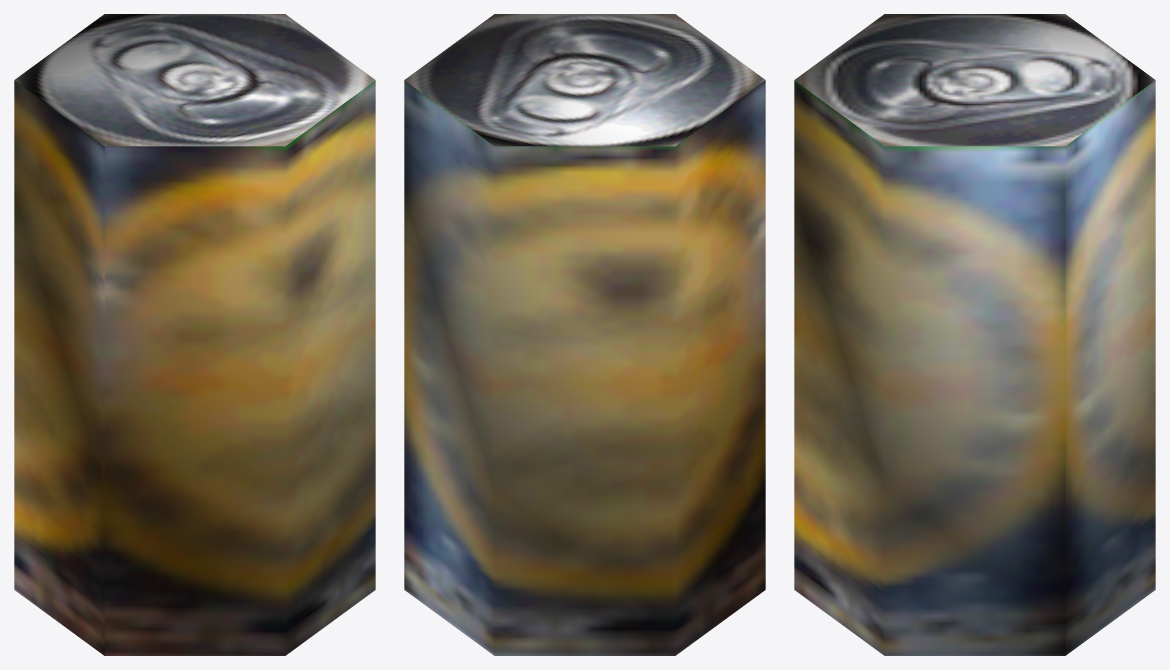
Rendered from can_6.glb.
3 views of the same model, side by side, from view 1: azimuth 30°, elevation 25°; view 2: azimuth 150°, elevation 25°; view 3: azimuth 270°, elevation 25° (orthographic).
Parts seen in each view (by area): view 1: Can_6; view 2: Can_6; view 3: Can_6.
Part boxes in pixels (x1,y1,x2,y2): Can_6: [14, 14, 375, 655]; Can_6: [404, 14, 765, 655]; Can_6: [794, 14, 1155, 655].
Size of the model in its own units: 0.1956 by 0.3512 by 0.2259.
1 material, 1 textured.
